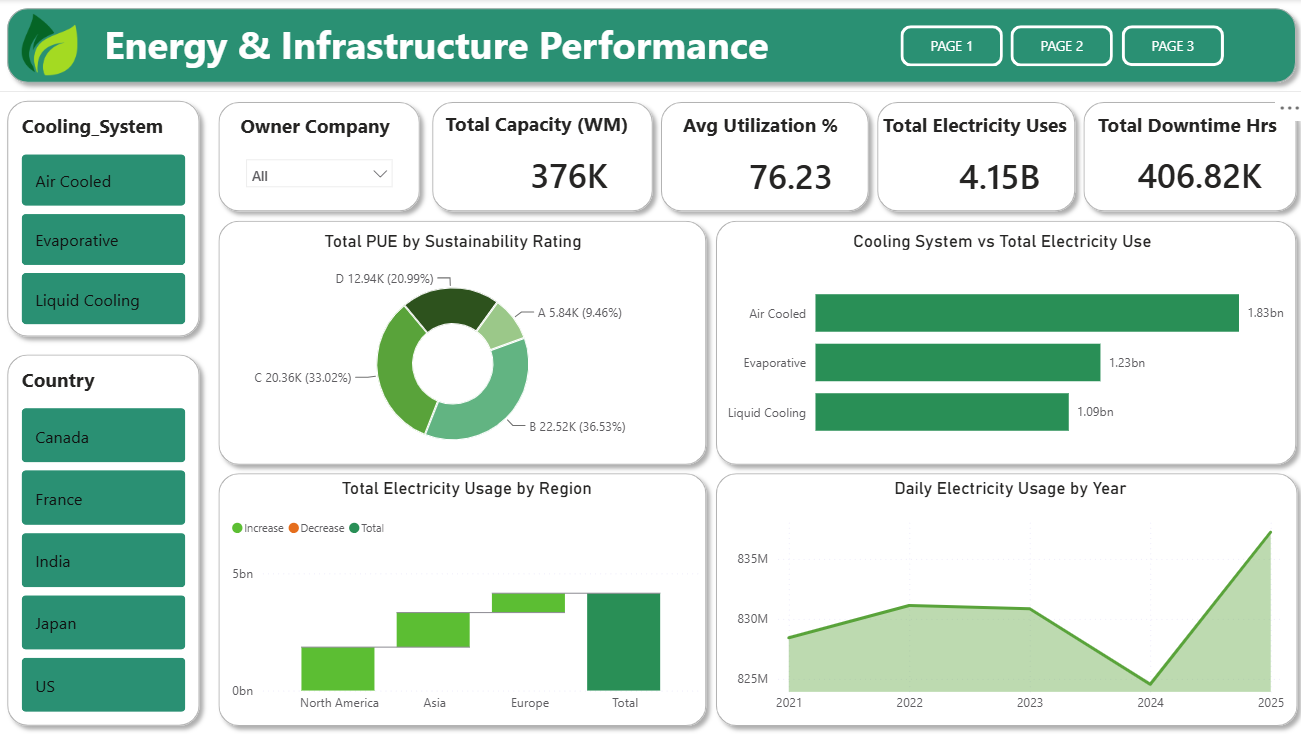

What the dashboard file says about the page in this screenshot:
{"tool":"powerbi","page":{"name":"Page 1","canvas":[1280,720],"ordinal":0},"visuals":[{"type":"card","fields":{"Values":["Table1.Total Facilities"]},"box":[223.5,91.2,260.7,145.5],"z":0},{"type":"shape","title":"Total Facilities","box":[206.7,91.7,210.3,124.7],"z":1000},{"type":"shape","box":[407.2,91.7,216.4,124.7],"z":2000},{"type":"shape","box":[615.1,91.7,220.1,124.7],"z":3000},{"type":"shape","box":[826.6,91.7,226.2,124.7],"z":4000},{"type":"shape","box":[1044.3,91.7,234.8,124.7],"z":5000},{"type":"card","title":"Total Facilities","fields":{"Values":["Table1.Total Facilities 1"]},"box":[220.1,112.5,248.5,89.7],"z":6000},{"type":"card","title":"Total Capacity (WM)","fields":{"Values":["Table1.Total Capacity (MW)"]},"box":[420.7,107.6,251.9,90.5],"z":7000},{"type":"card","title":"Avg Utilization %","fields":{"Values":["Table1.Avg Utilization %"]},"box":[640.8,110.1,222.1,89.7],"z":8000},{"type":"card","title":"Total Electricity Uses","fields":{"Values":["Table1.Total Electricity Usage"]},"box":[842.5,108.8,238.2,89.7],"z":9000},{"type":"card","title":"Total carbon Emission","fields":{"Values":["Table1.Total CO2 Emission"]},"box":[1066.3,107.6,212.8,89.3],"z":10000},{"type":"shape","title":"Total Facilities","box":[206.2,207.5,293.8,227.5],"z":11000},{"type":"shape","title":"Total Facilities","box":[493.8,207.5,266.2,227.5],"z":12000},{"type":"shape","title":"Total Facilities","box":[982.5,315,252.5,227.5],"z":13000},{"type":"shape","title":"Total Facilities","box":[961.2,207.5,317.5,228.8],"z":14000},{"type":"shape","title":"Total Facilities","box":[206.2,426.2,302.5,293.8],"z":15000},{"type":"shape","title":"Total Facilities","box":[500,426.2,372.5,293.8],"z":16000},{"type":"shape","title":"Total Facilities","box":[863.8,426.2,416.2,293.8],"z":17000},{"type":"donutChart","title":"Total Facilities by Facility Type","fields":{"Category":["Table1.Facility_Type"],"Y":["Table1.Total Facilities 1"]},"box":[178.8,221.2,330.2,199.3],"z":18000},{"type":"clusteredBarChart","title":"Cooling System vs Total Electricity Use","fields":{"Category":["Table1.Cooling_System"],"Y":["Sum(Table1.Electricity_Usage_MWh)"]},"box":[960,221.2,308.8,215],"z":21000},{"type":"waterfallChart","title":"Total Electricity Usage by Region","fields":{"Category":["Table1.Region"],"Y":["Sum(Table1.Electricity_Usage_MWh)"]},"box":[220,443.8,292.5,271.2],"z":22000},{"type":"areaChart","title":"Avg Utilization % by Year","fields":{"Category":["Table1.Year"],"Y":["Table1.Avg Utilization %"]},"box":[512.5,443.8,351.2,262.5],"z":23000},{"type":"lineClusteredColumnComboChart","title":"Carbon Emission & Avg Renewable Energy % by City","fields":{"Category":["Table1.City"],"Y":["Table1.Total CO2 Emission"],"Y2":["Avg(Table1.Renewable_Energy_Pct)"]},"box":[872.5,443.8,396.2,276.2],"z":24000},{"type":"shape","title":"Total Facilities","box":[0,90.5,206.7,176.1],"z":25000},{"type":"shape","title":"Total Facilities","box":[0,266.6,206.7,453.7],"z":26000},{"type":"shape","title":"Total Facilities","box":[0,0,1278.8,90.9],"z":27000},{"type":"shape","title":"Total Facilities","box":[24.5,293.5,161.4,189.5],"z":28000},{"type":"shape","title":"Total Facilities","box":[25,600,161.2,96.2],"z":29000},{"type":"slicer","fields":{"Values":["Table1.Year"]},"box":[37.9,298.4,130.8,181],"z":30000},{"type":"shape","title":"Total Facilities","box":[23.2,494,162.6,95.4],"z":31000},{"type":"slicer","fields":{"Values":["Table1.Region"]},"box":[39.1,503.8,129.6,75.8],"z":32000},{"type":"slicer","fields":{"Values":["Table1.Water Level"]},"box":[39.1,610.2,129.6,75.8],"z":33000},{"type":"image","box":[22.7,12.1,54.5,65.2],"z":34000},{"type":"textbox","box":[78.3,13.5,868.2,64.8],"z":35000},{"type":"advancedSlicerVisual","fields":{"Values":["Table1.Operational Status"]},"box":[17.1,111.3,174.9,141.8],"z":36000},{"type":"actionButton","box":[1017.4,25.7,100,40],"z":37000},{"type":"actionButton","box":[1122.6,25.7,100,40],"z":38000},{"type":"image","box":[223.8,155,57.5,43.8],"z":39000},{"type":"image","box":[441.2,156.2,43.8,43.8],"z":40000},{"type":"image","box":[630,157.5,66.2,41.2],"z":41000},{"type":"image","box":[828.8,156.2,86.2,43.8],"z":42000},{"type":"image","box":[1043.8,156.2,101.2,46.2],"z":43000},{"type":"shape","title":"Total Facilities","box":[751.2,207.5,220,228.8],"z":44000},{"type":"clusteredBarChart","title":"Sustainability Rating vs Total facilities","fields":{"Category":["Table1.Sustainability_Rating"],"Y":["Table1.Total Facilities 1"]},"box":[503.8,221.2,247.5,198.8],"z":44500},{"type":"barChart","title":"Country vs Total Capacity","fields":{"Category":["Table1.Country"],"Y":["Table1.Total Capacity (MW)"]},"box":[756.2,221.2,216.2,207.5],"z":45000}]}

Visuals, with their boxes in screenshot pixels (x1, y1, x2, y2), scaled from the page's 1280x720 canvas onto the 1301x734 screenshot:
card - Table1.Total Facilities: (left=227, top=93, right=492, bottom=241)
"Total Facilities" shape: (left=210, top=93, right=424, bottom=221)
shape: (left=414, top=93, right=634, bottom=221)
shape: (left=625, top=93, right=849, bottom=221)
shape: (left=840, top=93, right=1070, bottom=221)
shape: (left=1061, top=93, right=1300, bottom=221)
"Total Facilities" card: (left=224, top=115, right=476, bottom=206)
"Total Capacity (WM)" card: (left=428, top=110, right=684, bottom=202)
"Avg Utilization %" card: (left=651, top=112, right=877, bottom=204)
"Total Electricity Uses" card: (left=856, top=111, right=1098, bottom=202)
"Total carbon Emission" card: (left=1084, top=110, right=1300, bottom=201)
"Total Facilities" shape: (left=210, top=212, right=508, bottom=443)
"Total Facilities" shape: (left=502, top=212, right=772, bottom=443)
"Total Facilities" shape: (left=999, top=321, right=1255, bottom=553)
"Total Facilities" shape: (left=977, top=212, right=1300, bottom=445)
"Total Facilities" shape: (left=210, top=434, right=517, bottom=733)
"Total Facilities" shape: (left=508, top=434, right=887, bottom=733)
"Total Facilities" shape: (left=878, top=434, right=1300, bottom=733)
"Total Facilities by Facility Type" donutChart: (left=182, top=226, right=517, bottom=429)
"Cooling System vs Total Electricity Use" clusteredBarChart: (left=976, top=226, right=1290, bottom=445)
"Total Electricity Usage by Region" waterfallChart: (left=224, top=452, right=521, bottom=729)
"Avg Utilization % by Year" areaChart: (left=521, top=452, right=878, bottom=720)
"Carbon Emission & Avg Renewable Energy % by City" lineClusteredColumnComboChart: (left=887, top=452, right=1290, bottom=733)
"Total Facilities" shape: (left=0, top=92, right=210, bottom=272)
"Total Facilities" shape: (left=0, top=272, right=210, bottom=733)
"Total Facilities" shape: (left=0, top=0, right=1300, bottom=93)
"Total Facilities" shape: (left=25, top=299, right=189, bottom=492)
"Total Facilities" shape: (left=25, top=612, right=189, bottom=710)
slicer - Table1.Year: (left=39, top=304, right=171, bottom=489)
"Total Facilities" shape: (left=24, top=504, right=189, bottom=601)
slicer - Table1.Region: (left=40, top=514, right=171, bottom=591)
slicer - Table1.Water Level: (left=40, top=622, right=171, bottom=699)
image: (left=23, top=12, right=78, bottom=79)
textbox: (left=80, top=14, right=962, bottom=80)
advancedSlicerVisual - Table1.Operational Status: (left=17, top=113, right=195, bottom=258)
actionButton: (left=1034, top=26, right=1136, bottom=67)
actionButton: (left=1141, top=26, right=1243, bottom=67)
image: (left=227, top=158, right=286, bottom=203)
image: (left=448, top=159, right=493, bottom=204)
image: (left=640, top=161, right=708, bottom=203)
image: (left=842, top=159, right=930, bottom=204)
image: (left=1061, top=159, right=1164, bottom=206)
"Total Facilities" shape: (left=764, top=212, right=987, bottom=445)
"Sustainability Rating vs Total facilities" clusteredBarChart: (left=512, top=226, right=764, bottom=428)
"Country vs Total Capacity" barChart: (left=769, top=226, right=988, bottom=437)
